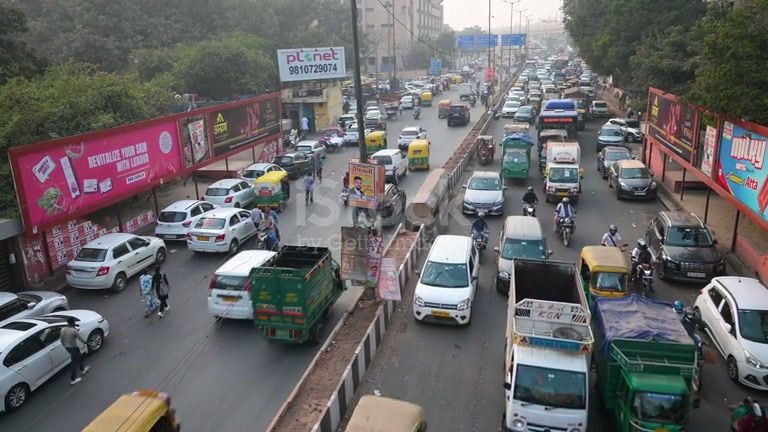bus: (500, 131, 535, 180)
car: (0, 314, 93, 415), (690, 275, 768, 391), (412, 233, 482, 326), (65, 231, 167, 292), (646, 210, 724, 281), (205, 249, 279, 322), (494, 215, 551, 296), (80, 389, 181, 432), (16, 308, 111, 353), (184, 207, 261, 255), (578, 245, 633, 310), (154, 198, 217, 241), (0, 289, 69, 325), (611, 159, 658, 202), (461, 172, 505, 217), (203, 178, 258, 209), (544, 165, 583, 204), (368, 148, 409, 185), (0, 290, 38, 324), (596, 146, 634, 179), (596, 124, 642, 151), (240, 162, 289, 187), (272, 150, 314, 179), (397, 125, 425, 151), (318, 128, 346, 152), (513, 105, 536, 125), (590, 100, 609, 116)
motorcycle: (630, 260, 655, 297), (554, 206, 576, 247)
pedestrian: (59, 317, 90, 384), (152, 268, 171, 312), (553, 195, 575, 230), (522, 185, 539, 217), (601, 223, 623, 247), (303, 172, 316, 205)
truck: (588, 292, 704, 430), (501, 298, 595, 431), (249, 245, 344, 347), (690, 275, 768, 391), (341, 159, 408, 229), (407, 132, 431, 171)
